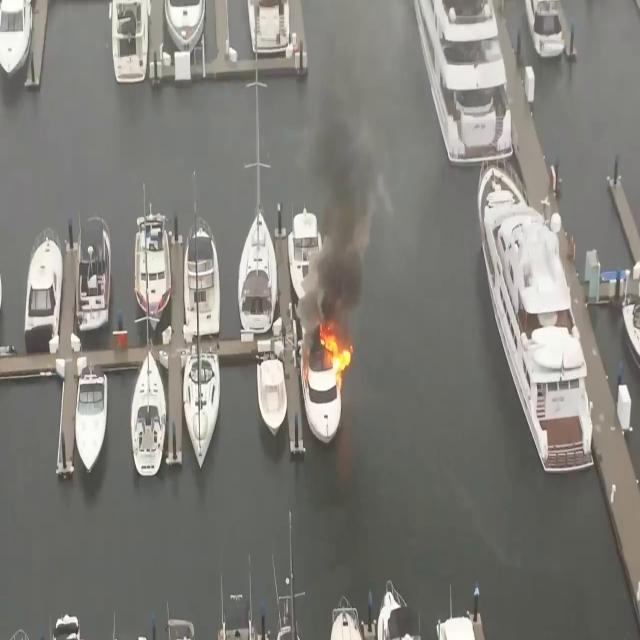Fire: (316, 322, 354, 383)
Smoke: (293, 2, 389, 312)
